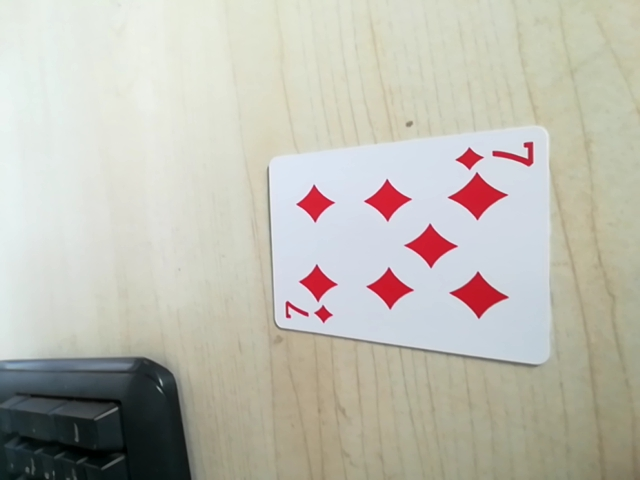fk 7: (455, 134, 540, 173), (277, 300, 337, 327)
